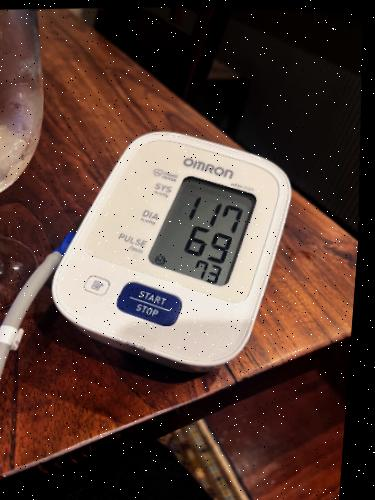bpm: (143, 166, 261, 290)
